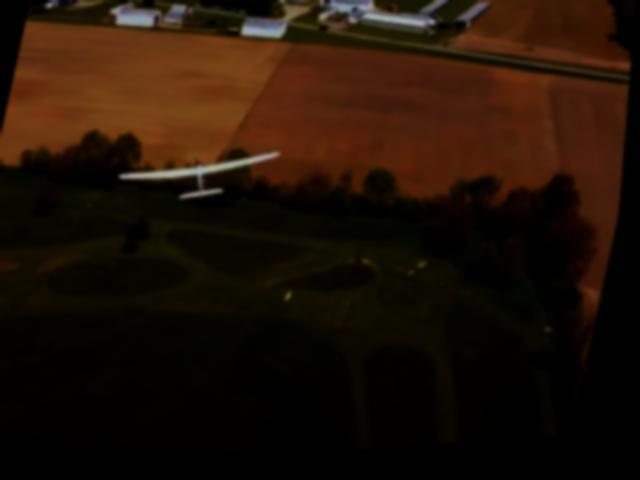iha: (113, 132, 284, 222)
